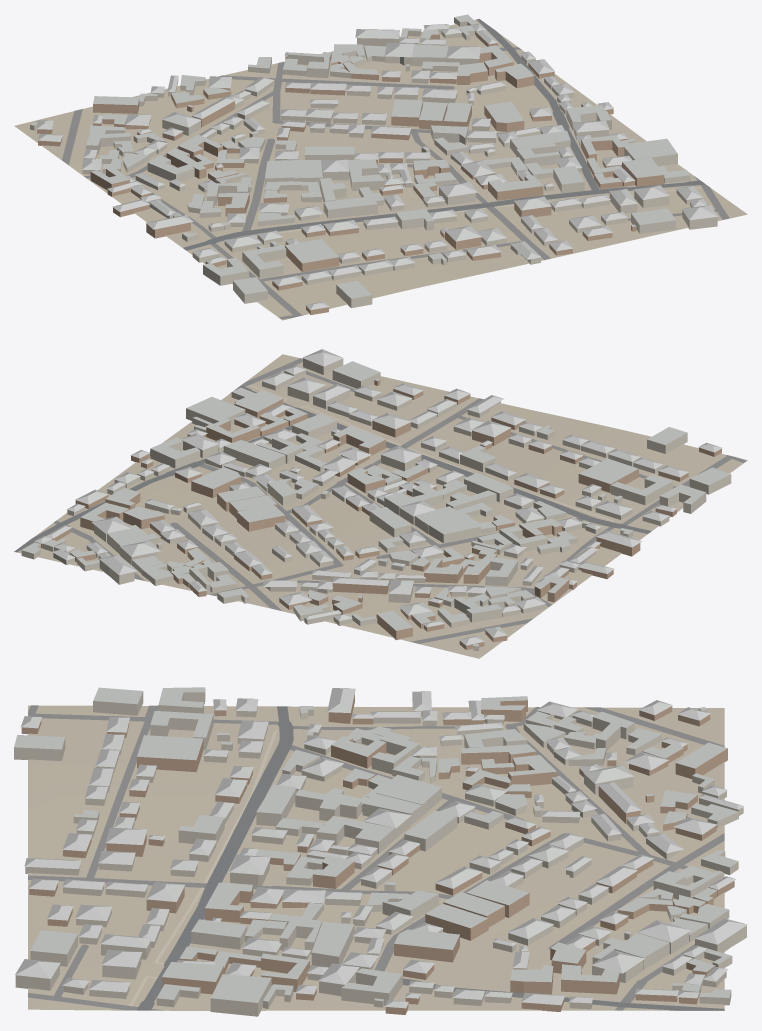
Rendered from bolak_-5_6.glb.
3 renders of one model, top to bottom at view 1: azimuth 30°, elevation 25°; view 2: azimuth 150°, elevation 25°; view 3: azimuth 270°, elevation 25°, orthographic. The views are drawn at different scales.
Parts seen in each view (by area): view 1: Tom_Shifer, Yer_Tuproq-col, Devor_Suvoq-col, Devor_Gisht-col, Yol_Mahalla-col, Yol_Asfalt-col; view 2: Tom_Shifer, Yer_Tuproq-col, Devor_Suvoq-col, Devor_Gisht-col, Yol_Mahalla-col, Yol_Asfalt-col, Yol_Piyoda; view 3: Tom_Shifer, Yer_Tuproq-col, Devor_Suvoq-col, Devor_Gisht-col, Yol_Mahalla-col, Yol_Asfalt-col, Yol_Piyoda.
Part boxes in pixels (x1=…): Tom_Shifer: x1=30, y1=14, x2=718, y2=310; Yer_Tuproq-col: x1=14, y1=19, x2=747, y2=320; Devor_Suvoq-col: x1=30, y1=17, x2=717, y2=308; Devor_Gisht-col: x1=37, y1=31, x2=664, y2=314; Yol_Mahalla-col: x1=62, y1=46, x2=729, y2=319; Yol_Asfalt-col: x1=183, y1=19, x2=705, y2=250; Tom_Shifer: x1=22, y1=349, x2=730, y2=646; Yer_Tuproq-col: x1=17, y1=354, x2=747, y2=658; Devor_Suvoq-col: x1=21, y1=358, x2=731, y2=650; Devor_Gisht-col: x1=35, y1=380, x2=721, y2=649; Yol_Mahalla-col: x1=53, y1=358, x2=746, y2=643; Yol_Asfalt-col: x1=14, y1=385, x2=651, y2=552; Yol_Piyoda: x1=249, y1=385, x2=613, y2=522; Tom_Shifer: x1=14, y1=687, x2=747, y2=1008; Yer_Tuproq-col: x1=28, y1=705, x2=724, y2=1010; Devor_Suvoq-col: x1=14, y1=689, x2=746, y2=1016; Devor_Gisht-col: x1=21, y1=694, x2=734, y2=1014; Yol_Mahalla-col: x1=28, y1=705, x2=724, y2=1010; Yol_Asfalt-col: x1=137, y1=706, x2=724, y2=1010; Yol_Piyoda: x1=129, y1=730, x2=279, y2=1006.
Size of what is drawn, in the model's own units: 420 by 16.81 by 421.
